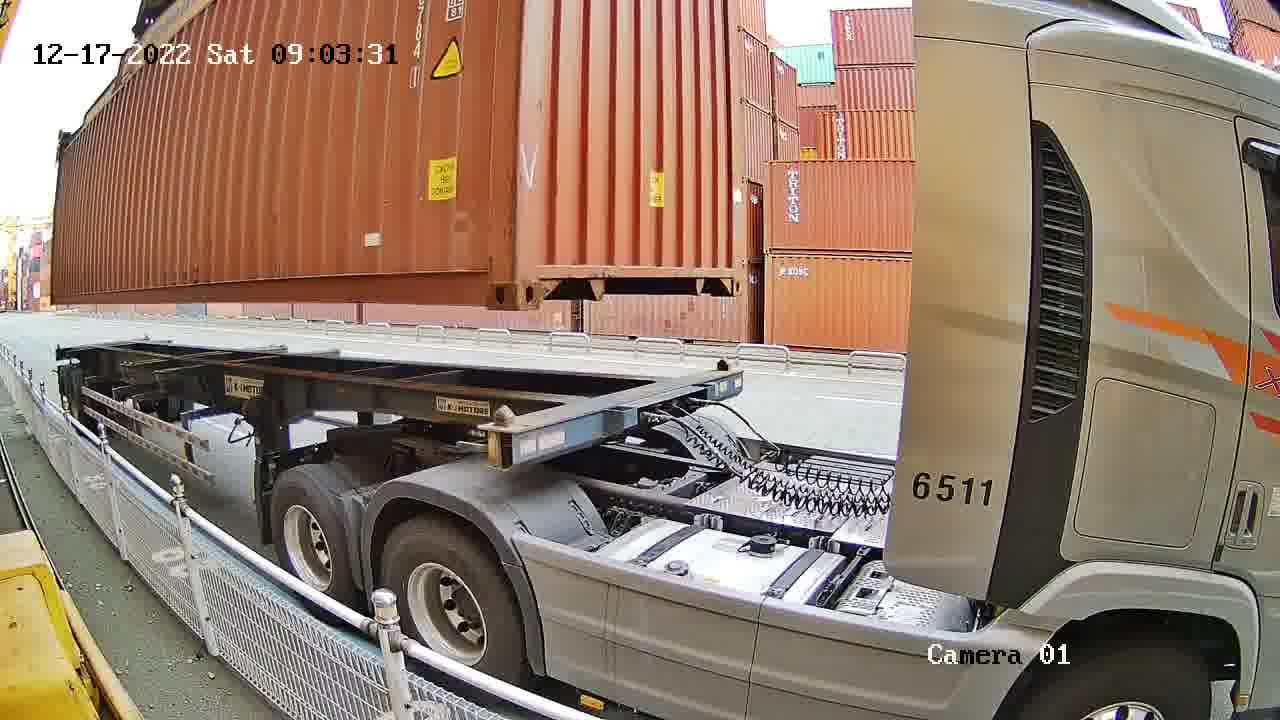Chassis: (514, 366, 745, 471)
Cone: (479, 430, 515, 470)
Container: (515, 241, 748, 307)
Hole_L: (515, 241, 554, 306)
Hole_R: (466, 240, 517, 308), (718, 252, 747, 299)
Tire: (372, 527, 525, 681), (273, 474, 349, 600)
